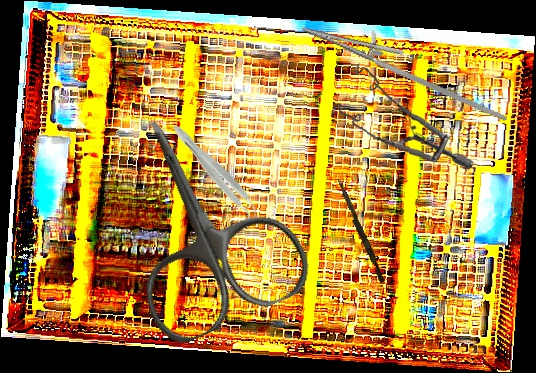Iris Scissors: (79, 87, 320, 352)
Needle Holder: (293, 10, 521, 122)
Pusher: (332, 176, 388, 284)
Speculum: (326, 60, 481, 171)
Tissue Forceps: (165, 120, 266, 227)
